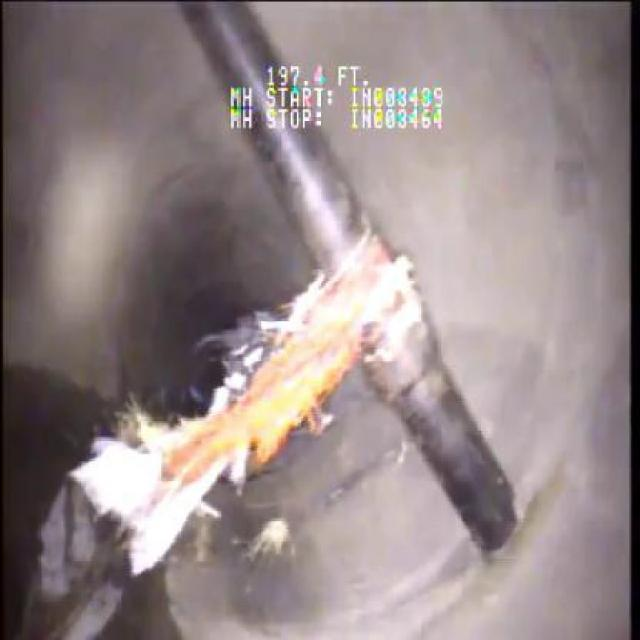Utility intrusion: (317, 261, 526, 557), (177, 3, 397, 262)
